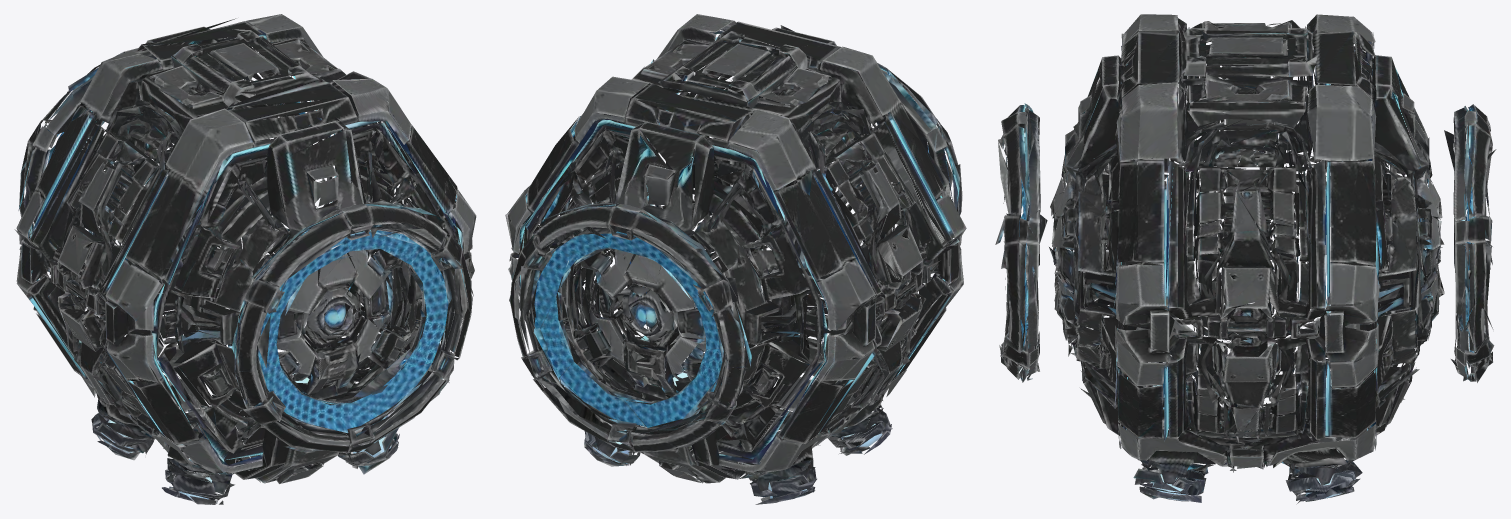
File: enemy_aegis.glb
3 views of the same model, side by side, from view 1: azimuth 30°, elevation 25°; view 2: azimuth 150°, elevation 25°; view 3: azimuth 270°, elevation 25° (orthographic). The views are drawn at different scales.
Visible parts, largest first — view 1: body; view 2: body; view 3: body.
Part boxes in pixels (box(x1,y1,x2,y2)): body: box(14, 14, 476, 504); body: box(505, 14, 966, 504); body: box(995, 14, 1496, 504).
Bounding box in the file's own units: 0.5508 × 0.5836 × 0.6291.
1 material, 1 textured.
